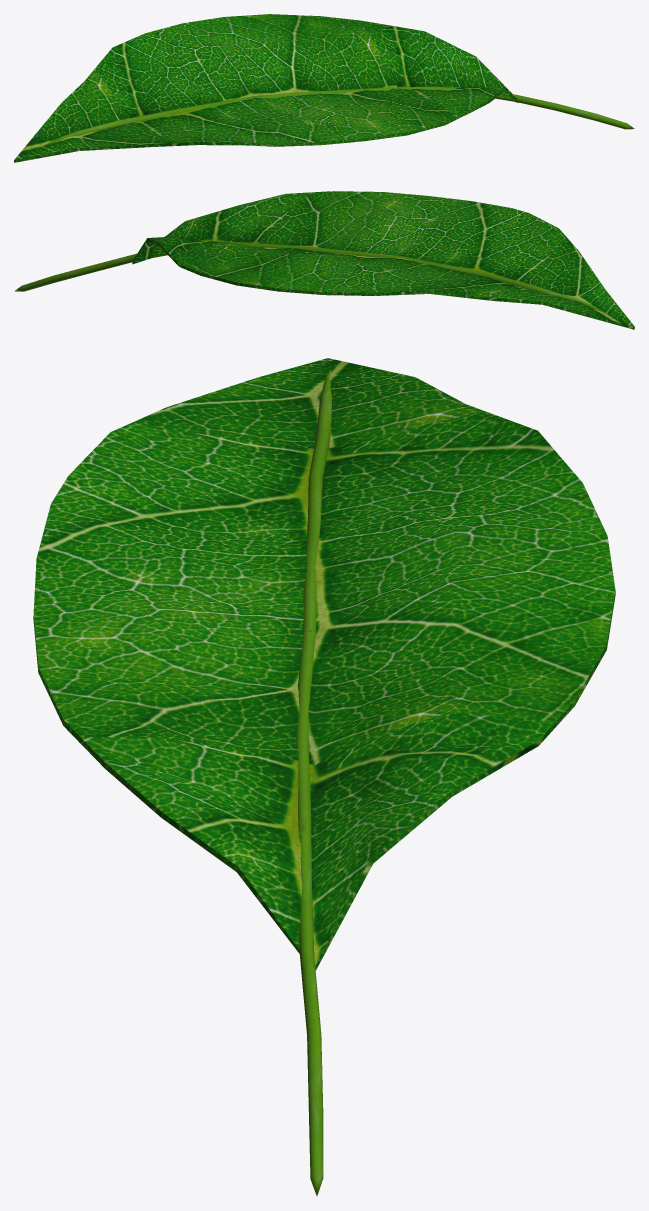
Rendered from Daun.fbx.
The picture shows the model from 3 angles, top to bottom: view 1: azimuth 30°, elevation 25°; view 2: azimuth 150°, elevation 25°; view 3: azimuth 270°, elevation 25°; orthographic projection. The views are drawn at different scales.
Visible parts, largest first — view 1: leaf; view 2: leaf; view 3: leaf.
Boxes of the visible parts, <box> form: leaf: <box>14,14,634,162</box>; leaf: <box>14,191,634,329</box>; leaf: <box>33,358,615,1195</box>.
Size of the model in its own units: 655 by 157 by 267.
Materials: 1 (1 with a texture image).
